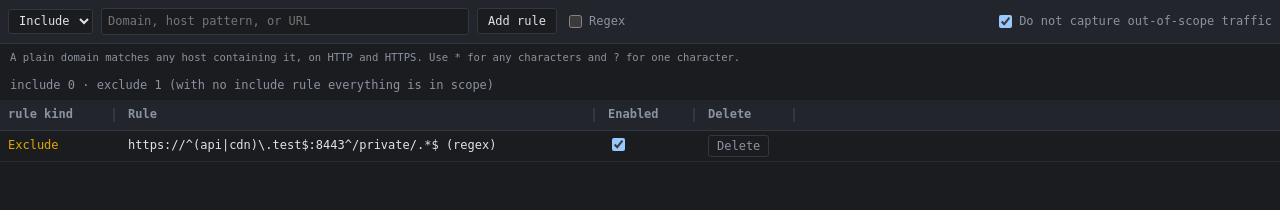
ScopeEditor editing › keeps the original kind and shows an error when an inline save fails
The image size is (1280, 210).
Double-click the cell "Exclude".
double_click(60, 146)  # box [0,130,120,162]
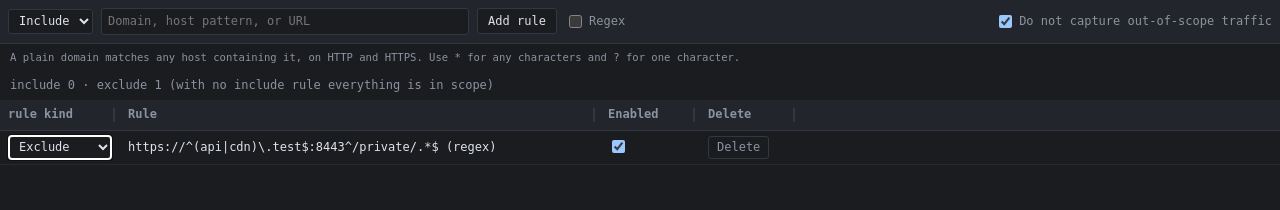
Select "Include" in the dropdown named "rule kind" below "rule kind" at (60, 147), box [8,135,112,160]
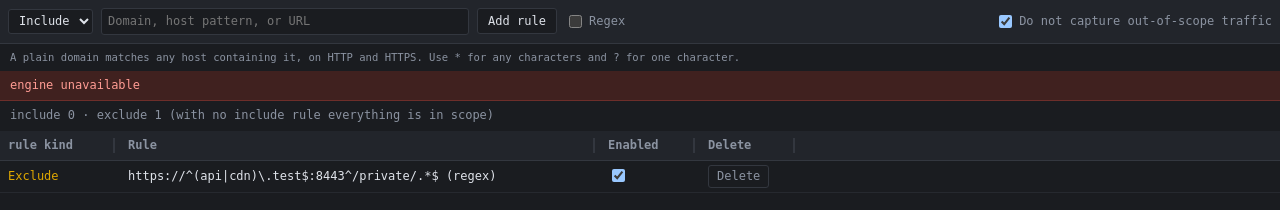
Now the message reads "engine unavailable", box [10,78,140,92]
